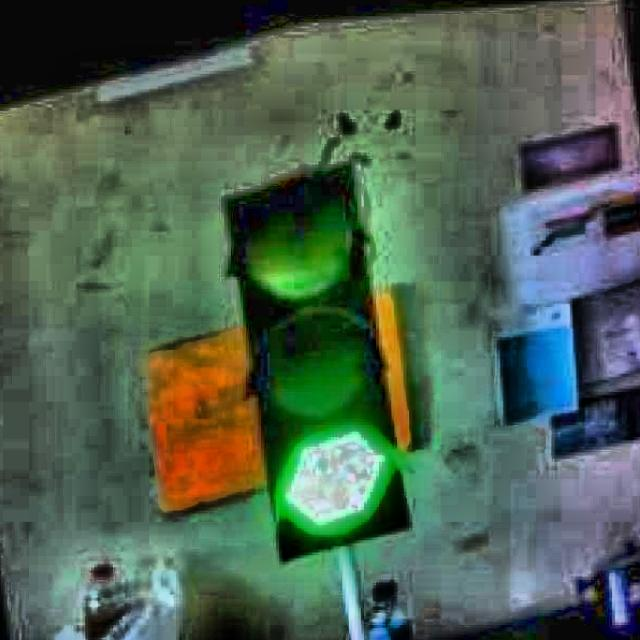green: (220, 160, 411, 573)
